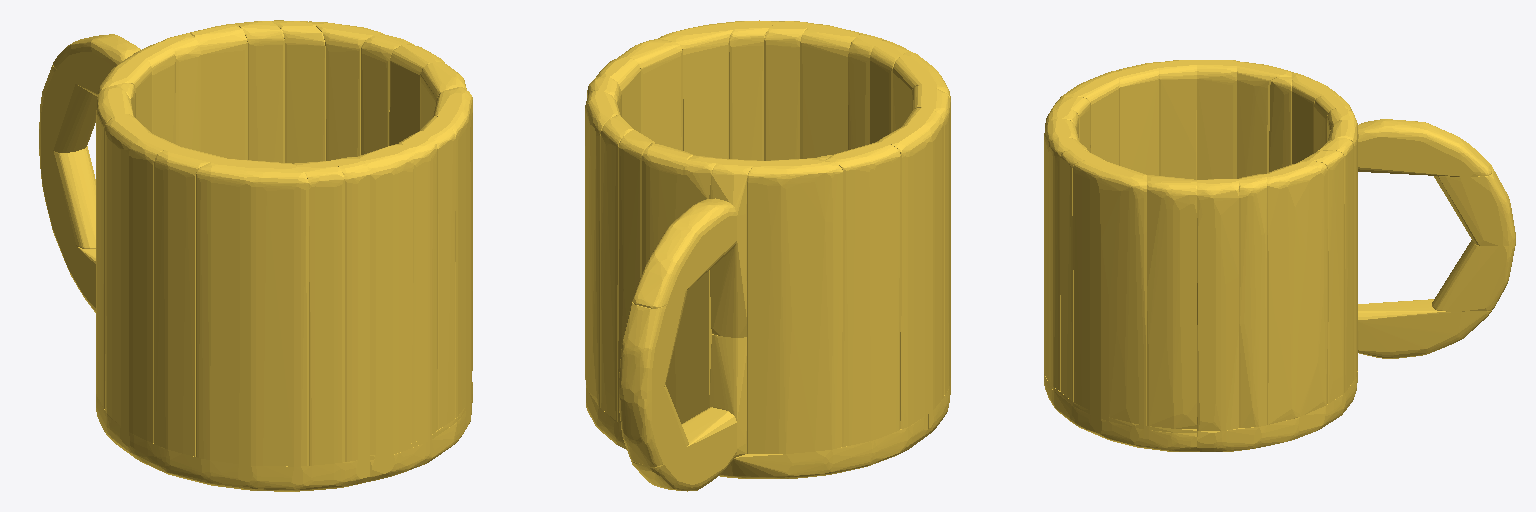
URDF robot description (387.urdf):
<?xml version="1.0" ?>
<robot name="387.urdf">
	<link name="baseLink">
		<inertial>
			<origin rpy="0 0 0" xyz="0 0 0"/>
				<mass value="0.1"/>
				<inertia ixx="6e-5" ixy="0" ixz="0" iyy="6e-5" iyz="0" izz="6e-5"/>
		</inertial>
		<visual>
			<origin rpy="0 0 0" xyz="0 0 0"/>
			<geometry>
				<mesh filename="5_decom_wt.obj" scale="1.01 1.01 1.06"/>
			</geometry>
			<material name="yellow">
				<color rgba="0.98 0.84 0.35 1"/>
			</material>
		</visual>
		<collision>
			<origin rpy="0 0 0" xyz="0 0 0"/>
			<geometry>
				<mesh filename="5_decom_wt.obj" scale="1.01 1.01 1.06"/>
			</geometry>
		</collision>
	</link>
</robot>

--- Render facts (derived) ---
3 views of the same robot in one strip: view 1: azimuth 30°, elevation 25°; view 2: azimuth 150°, elevation 25°; view 3: azimuth 270°, elevation 25° (orthographic).
Model 387.urdf with 1 links and 0 joints (none), rooted at baseLink, posed all joints at 0.
Links seen in each view (by area): view 1: baseLink; view 2: baseLink; view 3: baseLink.
Boxes of the visible links, box(x1,y1,x2,y2) form: baseLink: box(39, 20, 472, 491); baseLink: box(585, 20, 950, 491); baseLink: box(1044, 60, 1515, 451).
Size in the robot's own frame: 0.1097 by 0.1647 by 0.1034 metres.
Meshes: 1 distinct files referenced, 1 mesh visuals loaded (1 OBJ).